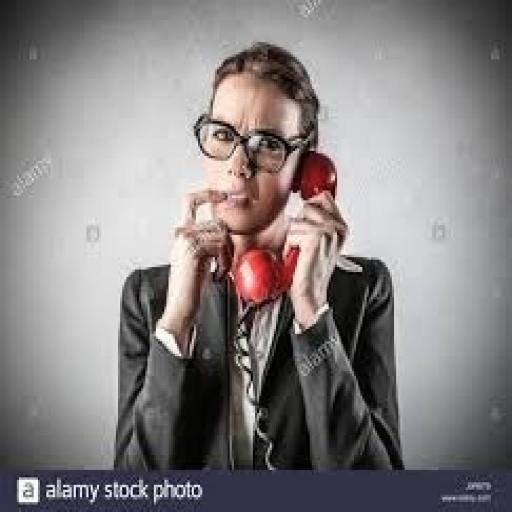calling: (110, 40, 404, 472)
